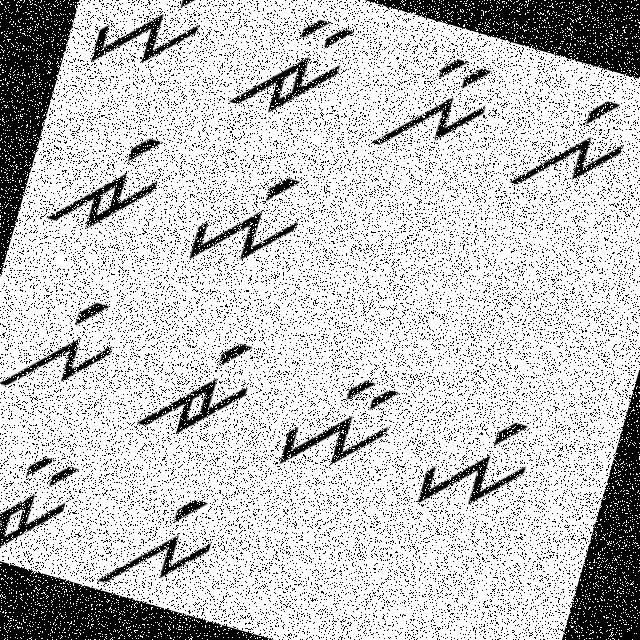lan: (363, 35, 504, 180)
lang: (492, 70, 639, 227), (86, 473, 230, 616), (0, 272, 133, 421)
ran: (216, 0, 362, 141), (0, 425, 86, 572)
rang: (38, 107, 175, 259), (133, 314, 264, 458)
yan: (264, 354, 406, 496), (79, 0, 226, 107)
yang: (174, 144, 326, 292), (404, 394, 540, 534)
